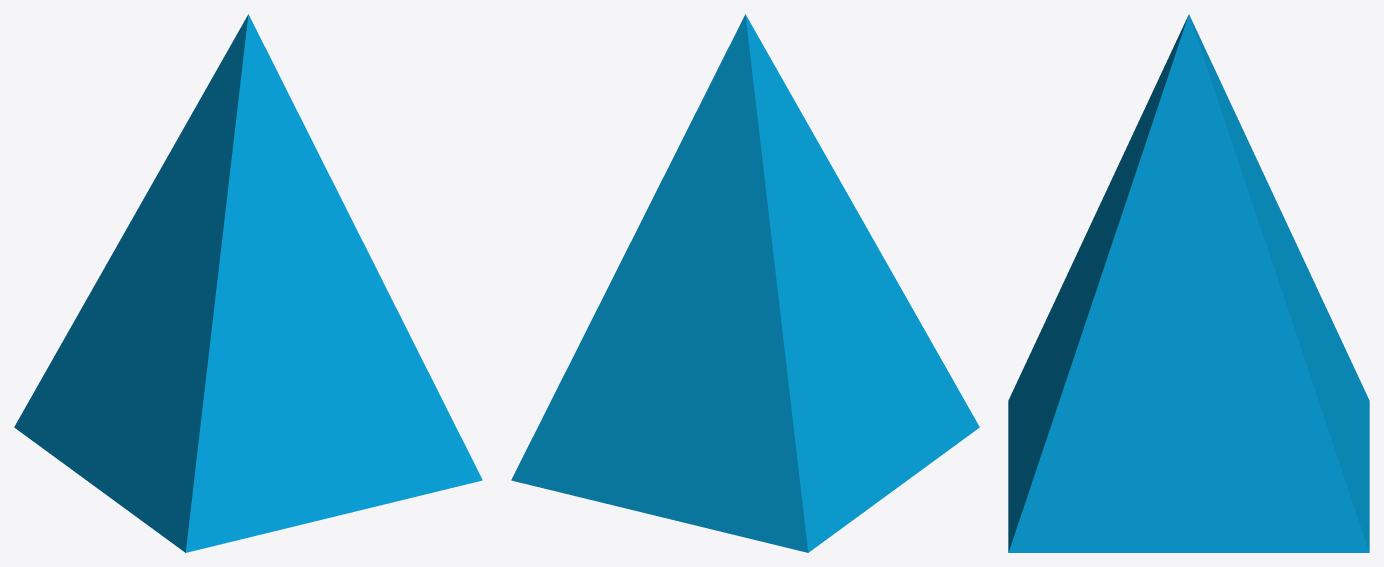
File: soslab_lidar_fov_120x35.glb
The picture shows the model from 3 angles, left to right: view 1: azimuth 30°, elevation 25°; view 2: azimuth 150°, elevation 25°; view 3: azimuth 270°, elevation 25°; orthographic projection. The views are drawn at different scales.
Parts seen in each view (by area): view 1: camera_fov; view 2: camera_fov; view 3: camera_fov.
Boxes of the visible parts, box(x1,y1,x2,y2) form: camera_fov: box(14, 14, 482, 552); camera_fov: box(511, 14, 979, 552); camera_fov: box(1008, 14, 1369, 552).
Bounding box in the file's own units: 1.41 × 2 × 1.41.
